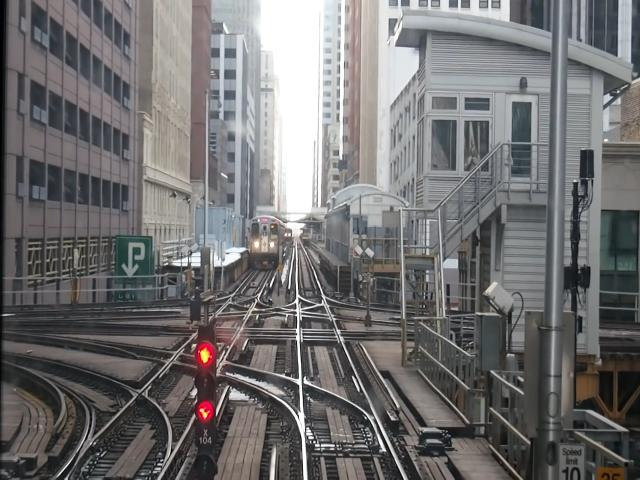signal light: (196, 323, 219, 480)
